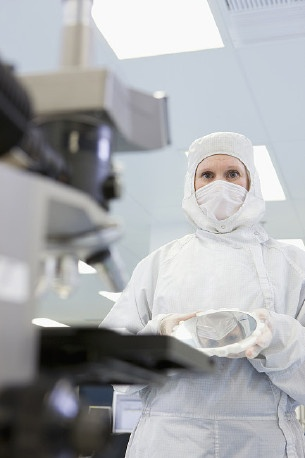Mask: (186, 158, 253, 225)
